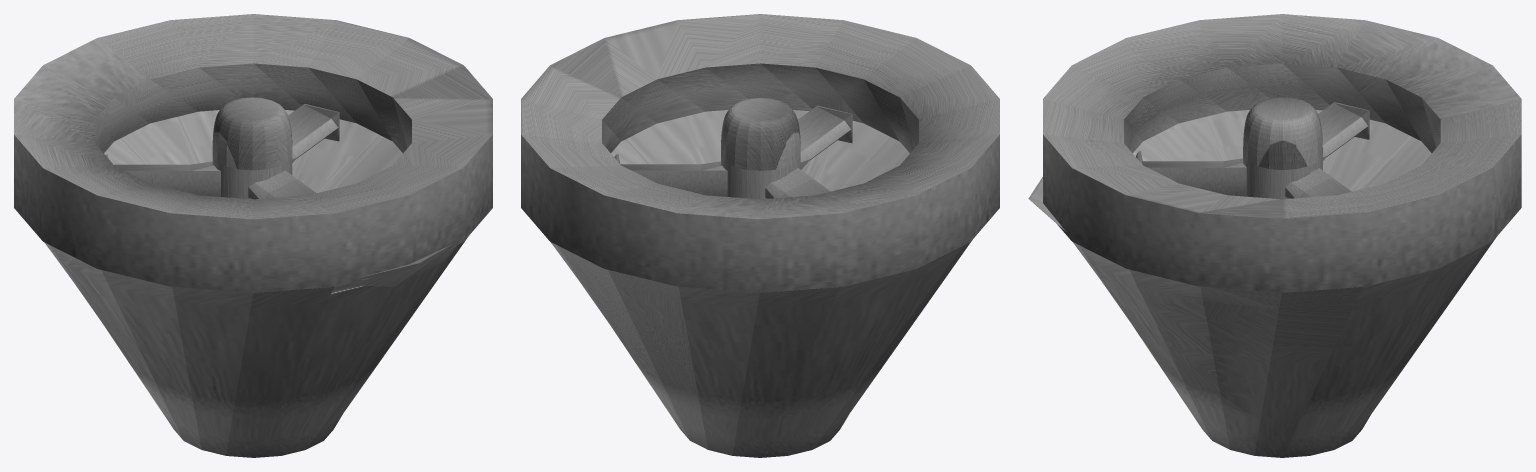
File: MolybdenumRheniumObject.DAE
3 renders of one model, left to right at view 1: azimuth 30°, elevation 25°; view 2: azimuth 150°, elevation 25°; view 3: azimuth 270°, elevation 25°, orthographic.
Parts seen in each view (by area): view 1: Cylinder002; view 2: Cylinder002; view 3: Cylinder002.
Part boxes in pixels (box(x1,y1,x2,y2)): Cylinder002: box(14, 14, 492, 457); Cylinder002: box(521, 14, 999, 457); Cylinder002: box(1028, 14, 1521, 457).
Size of the model in its own units: 11.81 by 11.99 by 8.43.
Materials: 1 (1 with a texture image).
